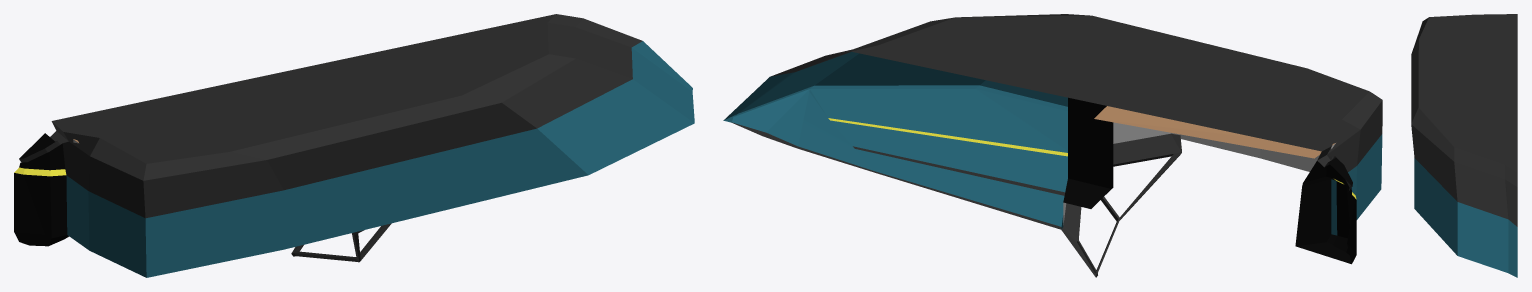
Rendered from boat.glb.
3 renders of one model, left to right at view 1: azimuth 30°, elevation 25°; view 2: azimuth 150°, elevation 25°; view 3: azimuth 270°, elevation 25°, orthographic. The views are drawn at different scales.
Visible parts, largest first — view 1: Cube; view 2: Cube; view 3: Cube.
Part boxes in pixels (box(x1,y1,x2,y2)): Cube: box(14, 14, 694, 277); Cube: box(723, 14, 1382, 277); Cube: box(1411, 14, 1517, 277).
Size of the model in its own units: 8.33 by 2.35 by 1.87.
